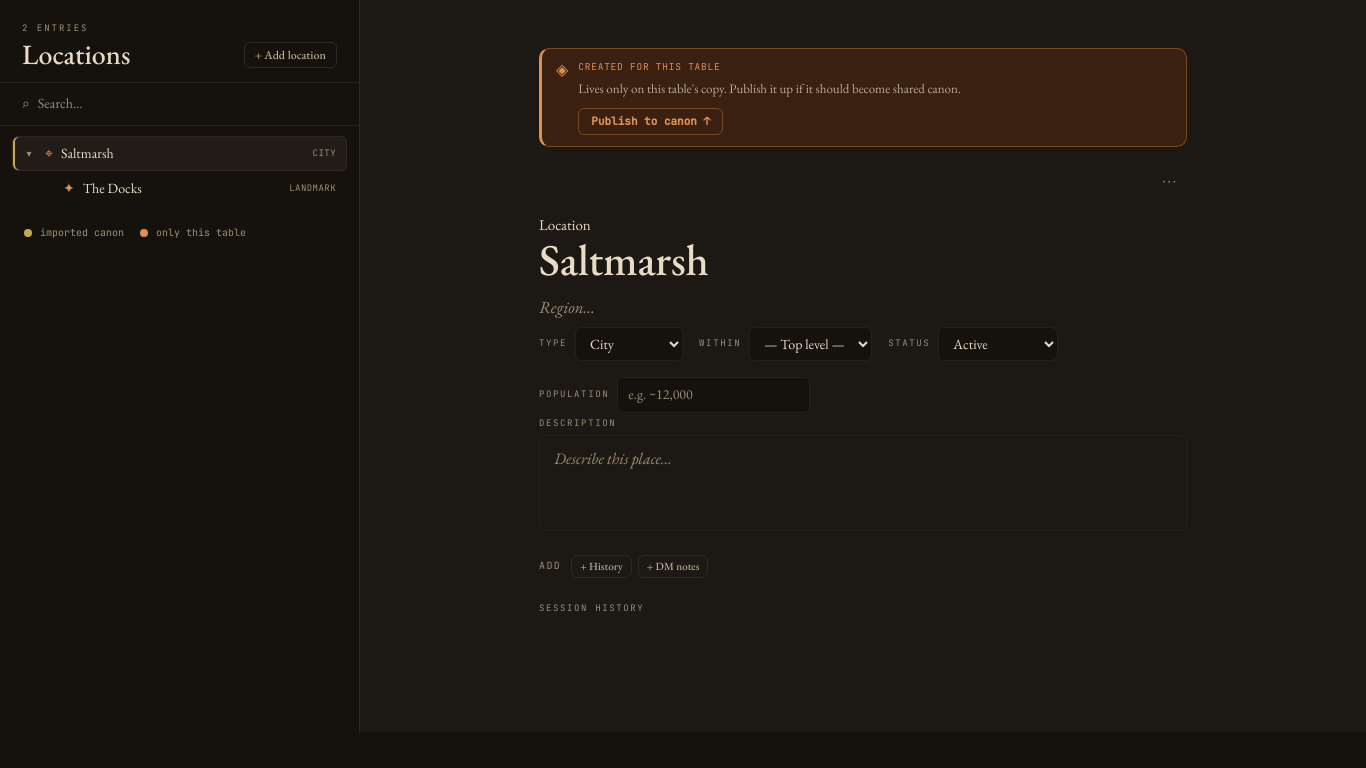
Scenario: Locations › renders the location tree and collapses a parent to hide its children
Check: the text "The Docks" is shown, box x1=83 y1=179 x2=142 y2=197
What coordinates should you click on to do the following:
click the button "▾"
I would click on:
 (29, 153)
Its box is x1=21 y1=146 x2=37 y2=161.
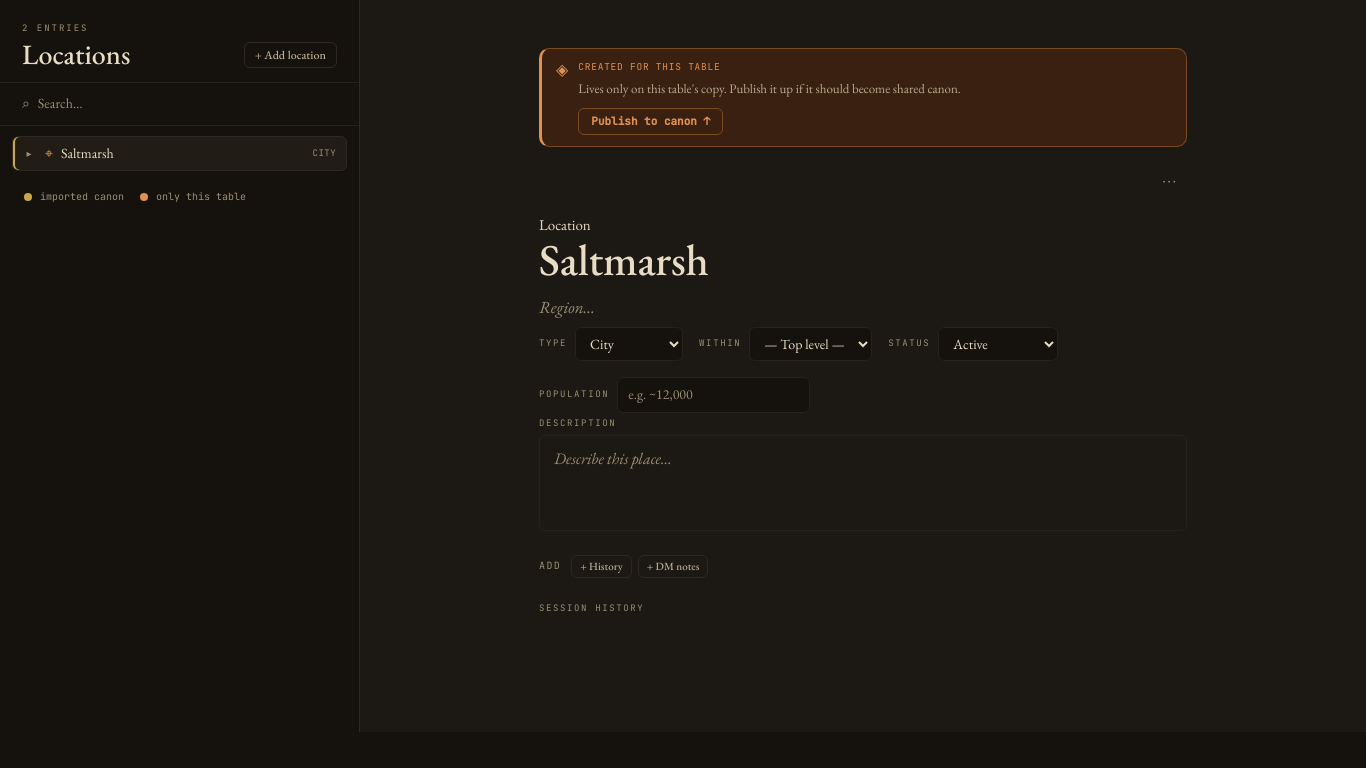
Check: the text "The Docks" is gone
